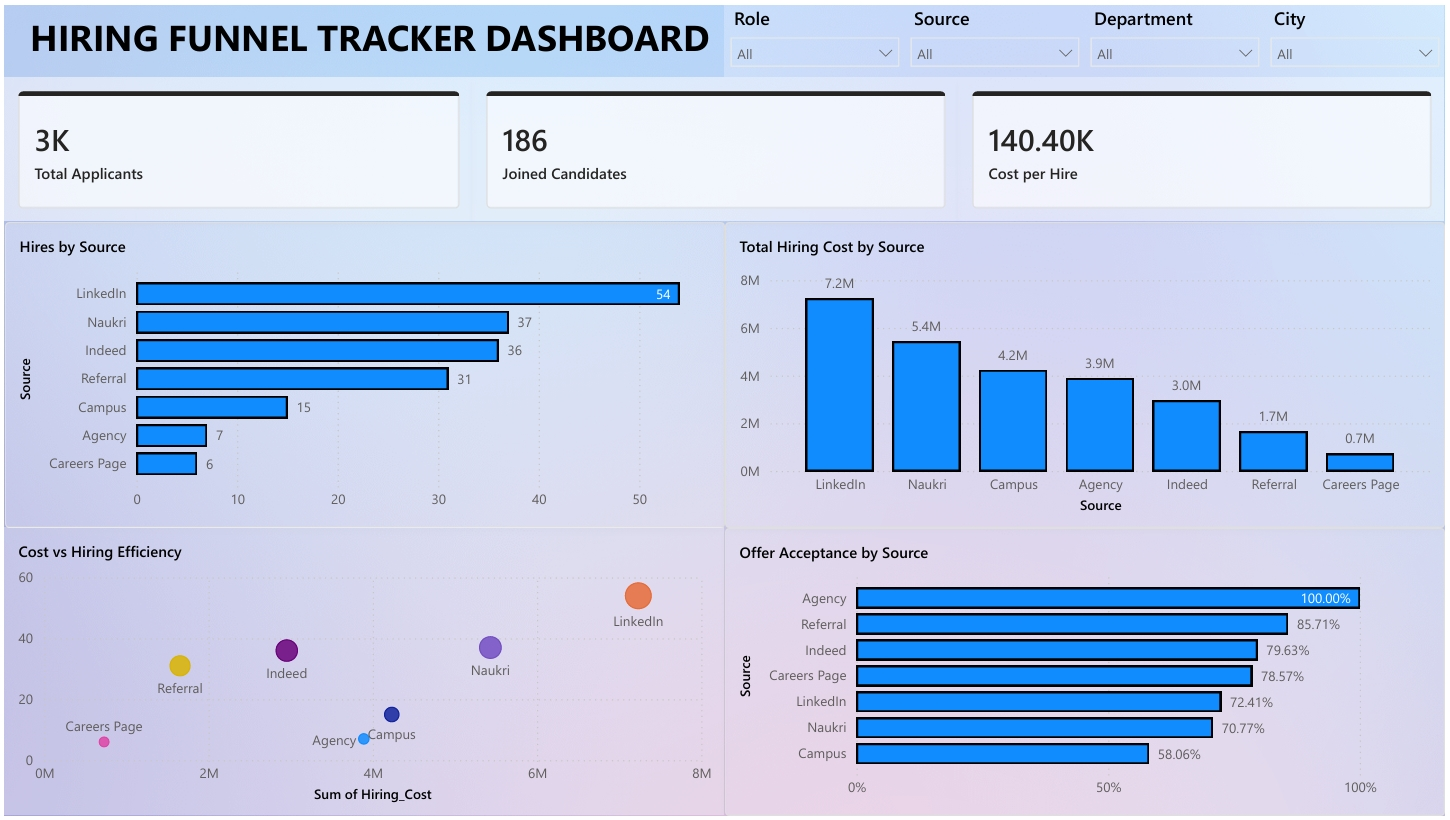

What the dashboard file says about the page in this screenshot:
{"tool":"powerbi","page":{"name":"Source & Cost Analysis","canvas":[1280,720],"ordinal":2},"visuals":[{"type":"cardVisual","fields":{"Data":["Calendar.Total Applicants"]},"box":[0,64,416,128],"z":0},{"type":"cardVisual","fields":{"Data":["Calendar.Joined Candidates"]},"box":[416,64,432,128],"z":1000},{"type":"cardVisual","fields":{"Data":["Calendar.Cost per Hire"]},"box":[848,64,432,128],"z":2000},{"type":"clusteredBarChart","title":"Hires by Source","fields":{"Category":["Candidates.Source"],"Y":["Calendar.Joined Candidates"]},"box":[0,192,640,272],"z":3000},{"type":"clusteredColumnChart","title":"Total Hiring Cost by Source","fields":{"Category":["Candidates.Source"],"Y":["Sum(Candidates.Hiring_Cost)"]},"box":[640,192,640,272],"z":4000},{"type":"scatterChart","title":"Cost vs Hiring Efficiency","fields":{"X":["Sum(Candidates.Hiring_Cost)"],"Y":["Calendar.Joined Candidates"],"Series":["Candidates.Source"],"Size":["Calendar.Joined Candidates"]},"box":[0,464,640,256],"z":5000},{"type":"clusteredBarChart","title":"Offer Acceptance by Source","fields":{"Category":["Candidates.Source"],"Y":["Calendar.Offer Acceptance Rate"]},"box":[640,464,640,256],"z":6000},{"type":"slicer","fields":{"Values":["Candidates.Role_Applied"]},"box":[640,0,160,64],"z":7000},{"type":"slicer","fields":{"Values":["Candidates.Source"]},"box":[800,0,160,64],"z":8000},{"type":"slicer","fields":{"Values":["Candidates.Department"]},"box":[960,0,160,64],"z":9000},{"type":"slicer","fields":{"Values":["Candidates.City"]},"box":[1120,0,160,64],"z":10000},{"type":"textbox","box":[0,0,640,64],"z":11000}]}

Visuals, with their boxes in screenshot pixels (x1, y1, x2, y2), scaled from the page's 1280x720 canvas onto the 1450x820 screenshot:
cardVisual - Calendar.Total Applicants: 0/73/471/219
cardVisual - Calendar.Joined Candidates: 471/73/961/219
cardVisual - Calendar.Cost per Hire: 961/73/1449/219
"Hires by Source" clusteredBarChart: 0/219/725/528
"Total Hiring Cost by Source" clusteredColumnChart: 725/219/1449/528
"Cost vs Hiring Efficiency" scatterChart: 0/528/725/819
"Offer Acceptance by Source" clusteredBarChart: 725/528/1449/819
slicer - Candidates.Role_Applied: 725/0/906/73
slicer - Candidates.Source: 906/0/1088/73
slicer - Candidates.Department: 1088/0/1269/73
slicer - Candidates.City: 1269/0/1449/73
textbox: 0/0/725/73
